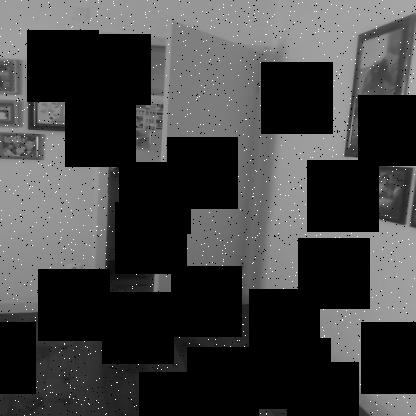Porte: (92, 20, 267, 343)
